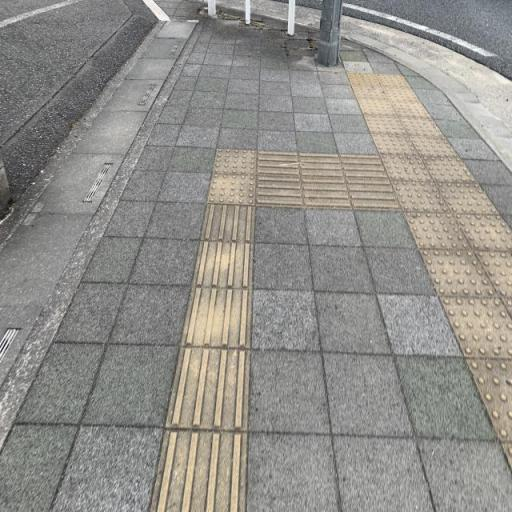dot: (416, 249, 500, 299), (402, 211, 473, 251), (434, 182, 501, 215), (389, 181, 453, 213), (206, 173, 256, 207), (380, 154, 436, 182), (420, 156, 478, 183), (213, 148, 257, 177), (408, 135, 459, 156), (371, 134, 418, 156), (363, 114, 408, 134), (399, 117, 444, 136), (390, 100, 432, 118), (357, 99, 399, 116)
line: (149, 430, 249, 511), (166, 347, 251, 431), (180, 288, 250, 349), (192, 241, 251, 289), (200, 204, 255, 243), (346, 181, 402, 211), (301, 179, 351, 209), (255, 176, 303, 206), (339, 154, 390, 181), (298, 153, 346, 181), (257, 151, 301, 178)
